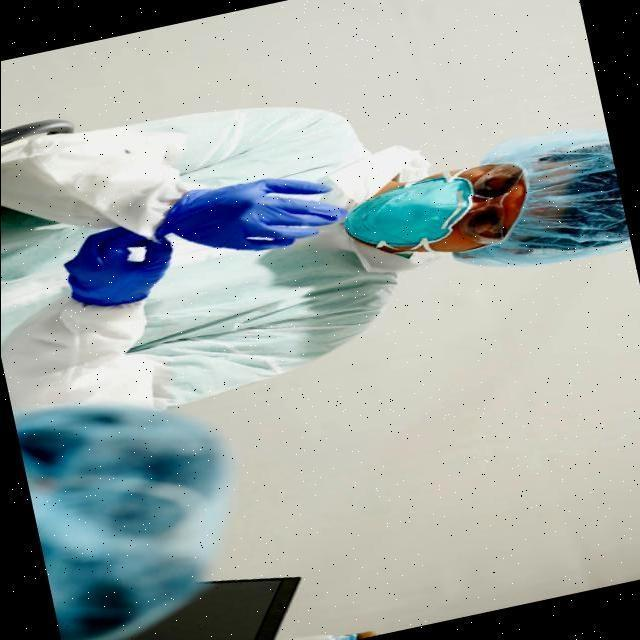apron: (166, 169, 340, 264), (62, 209, 182, 323)
